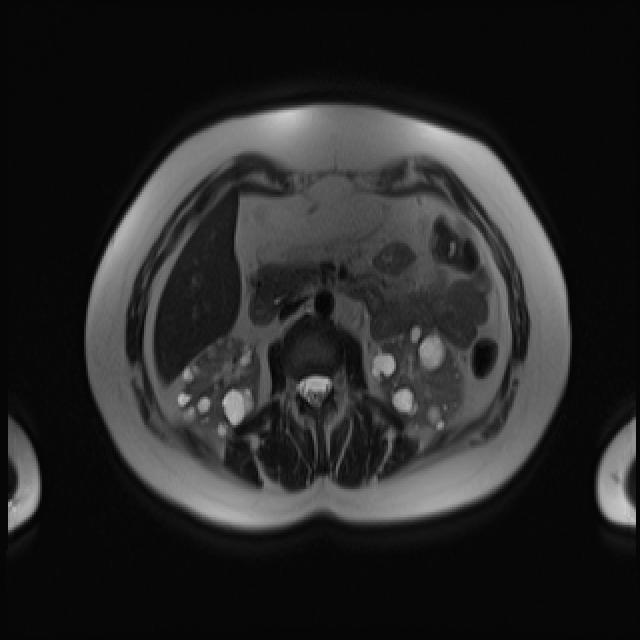sag: (178, 336, 262, 437)
sol: (373, 325, 462, 431)
